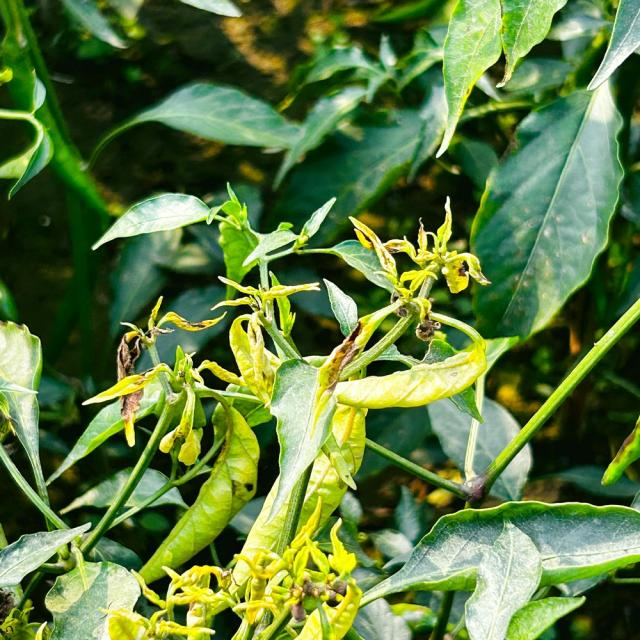Chilli_Leaf_Curl: (1, 1, 638, 638), (80, 181, 493, 629), (466, 79, 626, 342), (356, 498, 639, 638), (81, 80, 303, 172), (434, 0, 503, 159), (333, 341, 487, 410), (89, 191, 218, 250), (0, 520, 92, 589)
